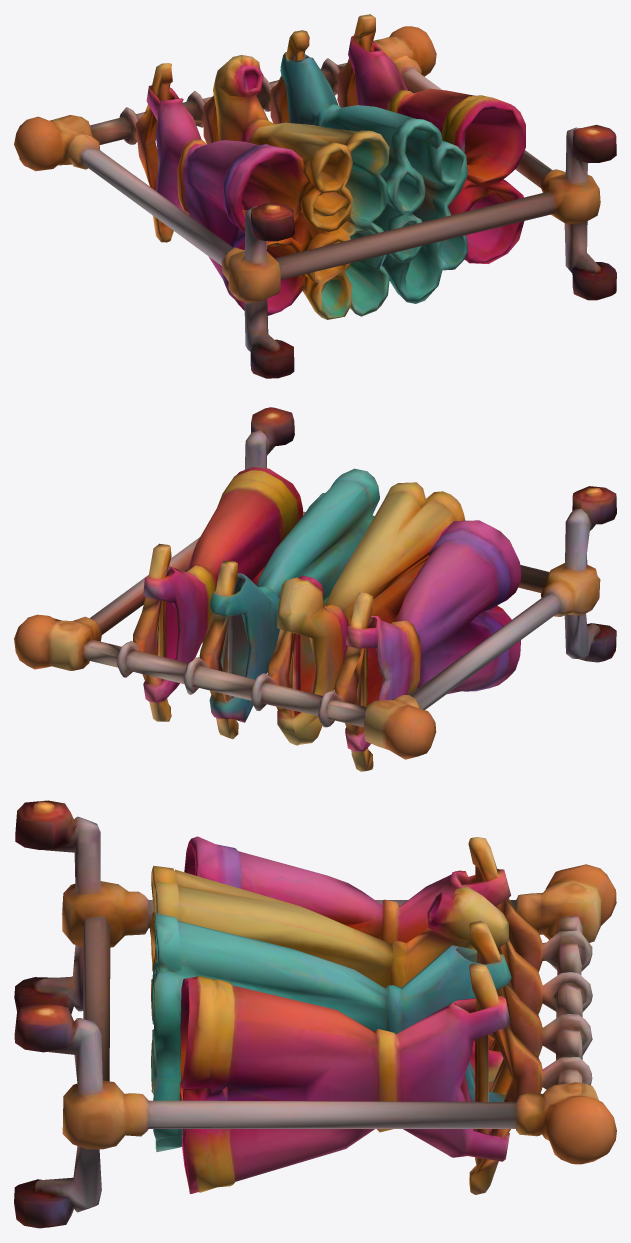
3 views of the same model, one above another, from view 1: azimuth 30°, elevation 25°; view 2: azimuth 150°, elevation 25°; view 3: azimuth 270°, elevation 25° (orthographic). The views are drawn at different scales.
Visible parts, largest first — view 1: material; view 2: material; view 3: material.
Part boxes in pixels (bbox=[...]): material: bbox=[14, 14, 616, 378]; material: bbox=[14, 407, 616, 771]; material: bbox=[14, 800, 616, 1228].
Bounding box in the file's own units: 1 × 0.4205 × 0.9845.
1 material, 1 textured.
